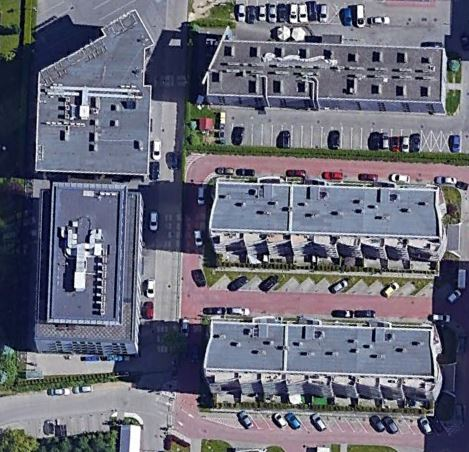block of flats: (199, 313, 447, 417), (201, 174, 449, 278), (198, 25, 450, 114), (30, 178, 151, 361), (31, 8, 159, 178)
